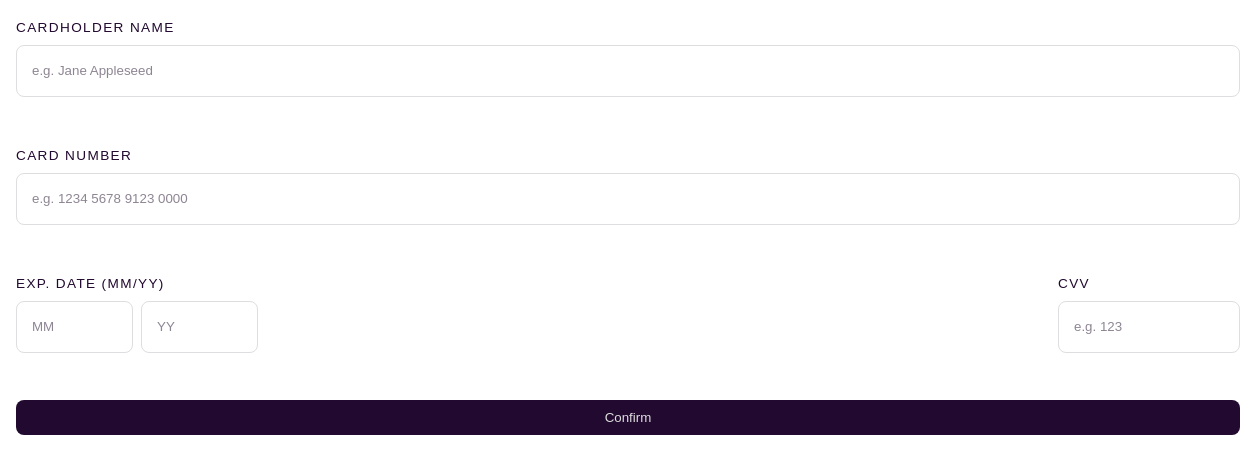
Test: AddCardForm › Should display an error if name is incorrectly typed in
Type "JohnDoe" into the field with placeholder "e.g. Jane Appleseed".
click(628, 70); type("JohnDoe")  # box [16, 44, 1240, 96]
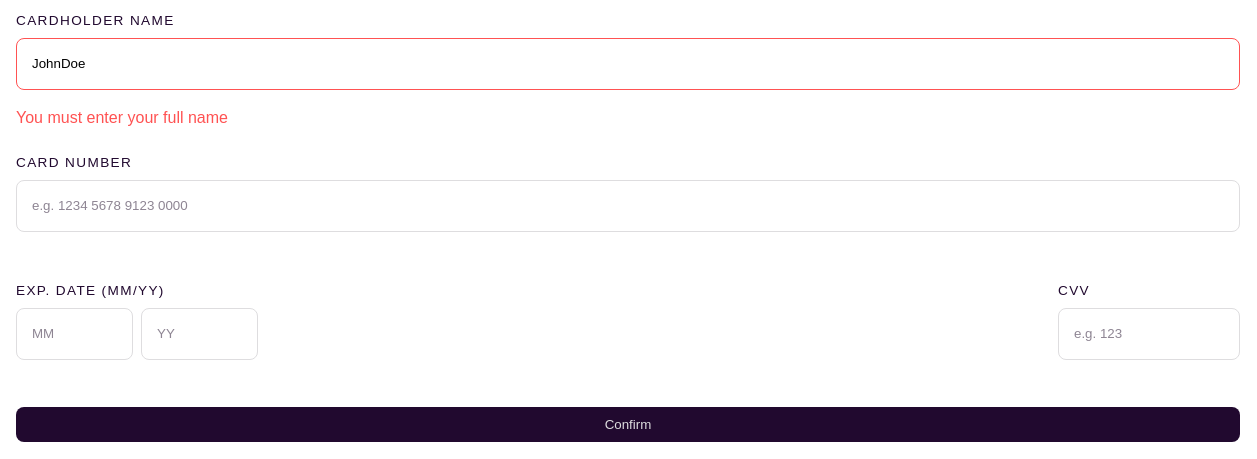
Check: the text "You must enter your full name" is shown, box [16, 108, 228, 126]
